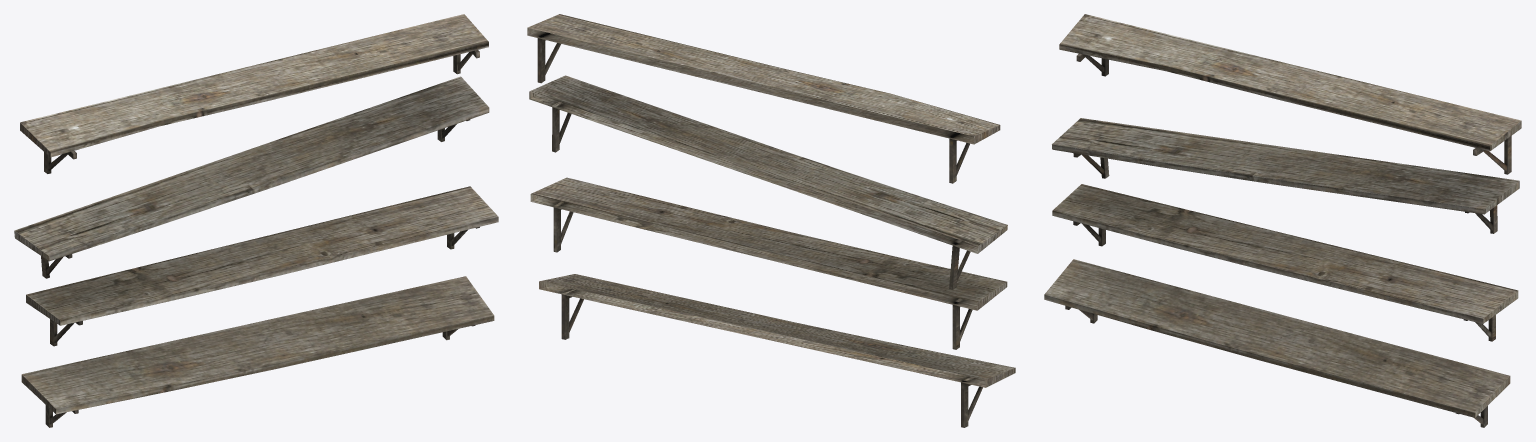
Rendered from WoodenStorage.FBX.
The picture shows the model from 3 angles, left to right: view 1: azimuth 30°, elevation 25°; view 2: azimuth 150°, elevation 25°; view 3: azimuth 330°, elevation 25°; orthographic projection. The views are drawn at different scales.
Visible parts, largest first — view 1: WoodenStorage_04, WoodenStorage_01, WoodenStorage_02, WoodenStorage_03; view 2: WoodenStorage_01, WoodenStorage_02, WoodenStorage_03, WoodenStorage_04; view 3: WoodenStorage_04, WoodenStorage_02, WoodenStorage_03, WoodenStorage_01.
Part boxes in pixels (x1,y1,x2,y2): WoodenStorage_04: (21,276,494,427); WoodenStorage_01: (14,76,489,278); WoodenStorage_02: (26,186,498,346); WoodenStorage_03: (20,14,488,173); WoodenStorage_01: (529,75,1007,289); WoodenStorage_02: (530,177,1007,349); WoodenStorage_03: (527,14,1000,183); WoodenStorage_04: (539,274,1015,427); WoodenStorage_04: (1044,259,1510,427); WoodenStorage_02: (1052,184,1518,341); WoodenStorage_03: (1059,14,1521,174); WoodenStorage_01: (1052,118,1519,233).
Bounding box in the file's own units: 250 × 165 × 37.85.
